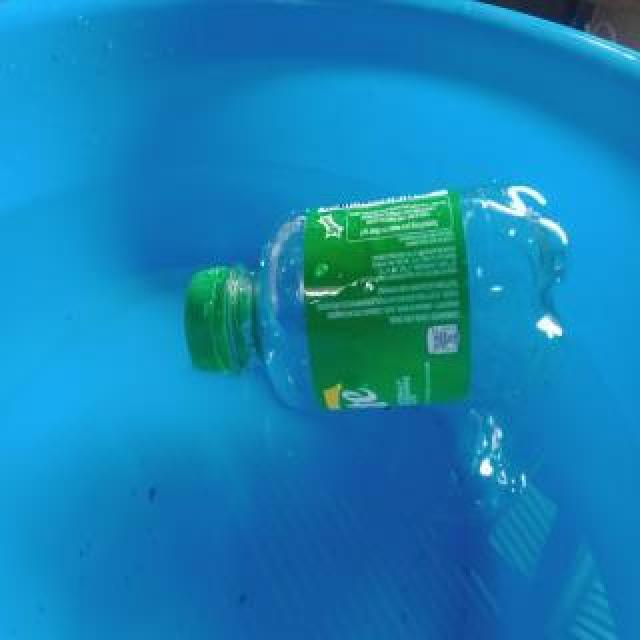bottle: (182, 175, 572, 415)
